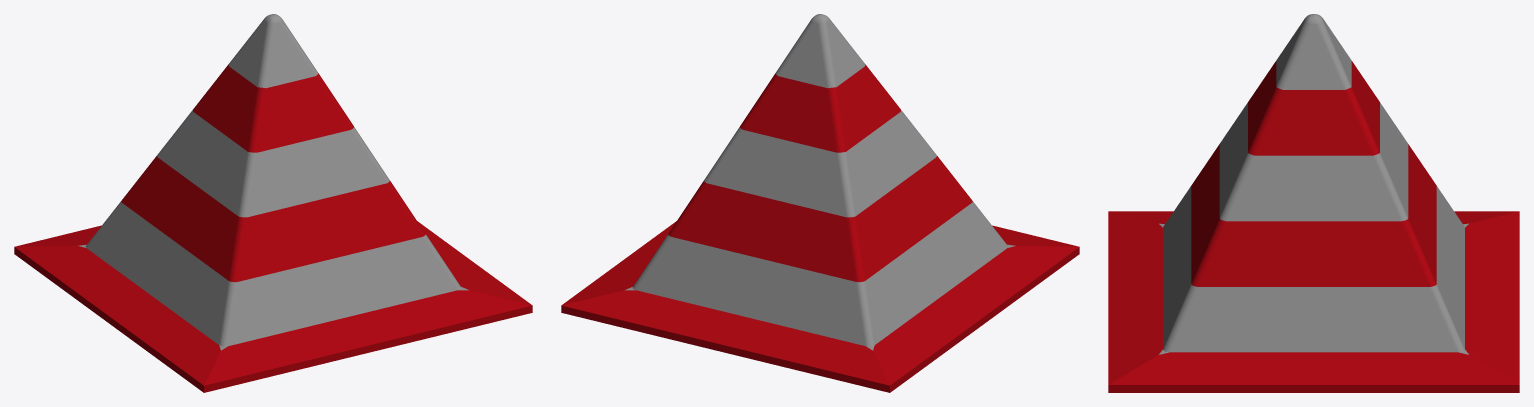
File: berigat kon.fbx
3 renders of one model, left to right at view 1: azimuth 30°, elevation 25°; view 2: azimuth 150°, elevation 25°; view 3: azimuth 270°, elevation 25°, orthographic. The views are drawn at different scales.
Visible parts, largest first — view 1: UCX_con; view 2: UCX_con; view 3: UCX_con.
Boxes of the visible parts, <box> form: UCX_con: <box>14,14,532,392</box>; UCX_con: <box>561,14,1079,392</box>; UCX_con: <box>1108,14,1519,392</box>.
Bounding box in the file's own units: 273 × 213 × 273.
